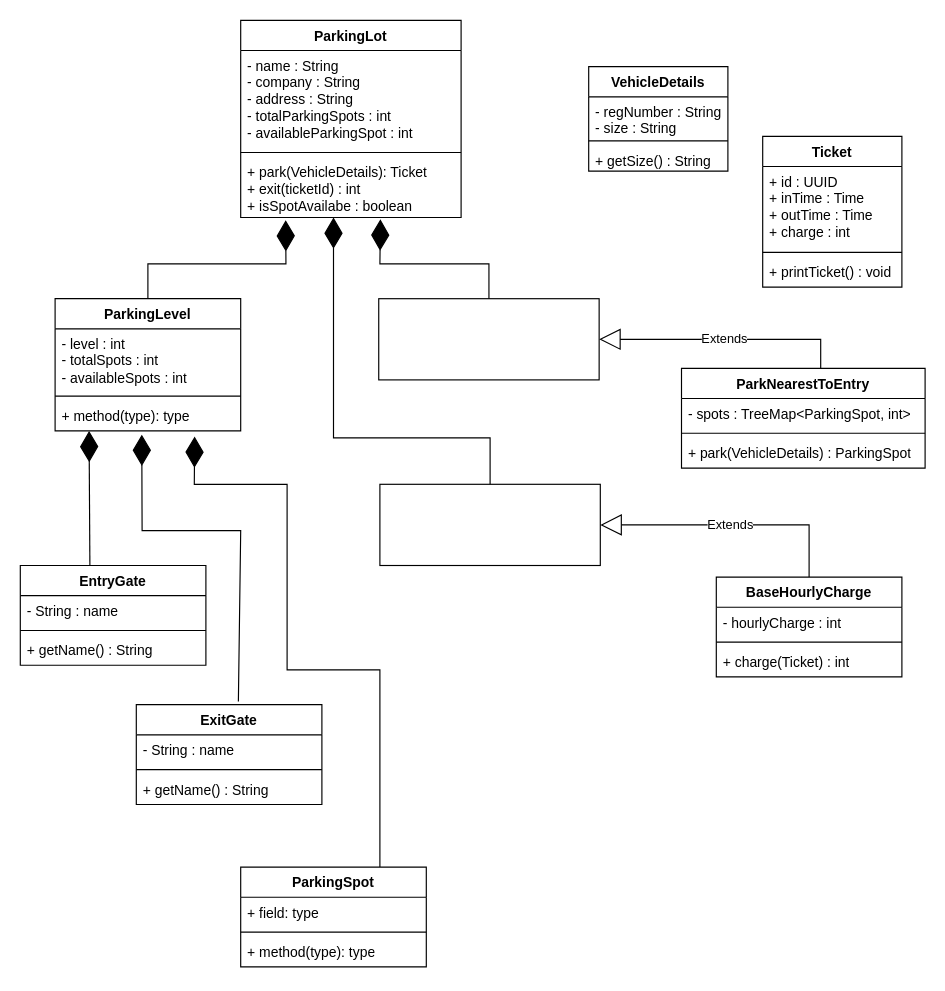
Some shapes in this 945 by 991 pixel diagram are drawn without their labels. Each missing label, with the centre of its shape:
"<<Interface>> ChargingStrategy + charge(Ticket) : int" belongs at point 489,524.
"<<Interface>> ParkingStrategy + park(VehicleDetails) : Ticket" belongs at point 488,339.
